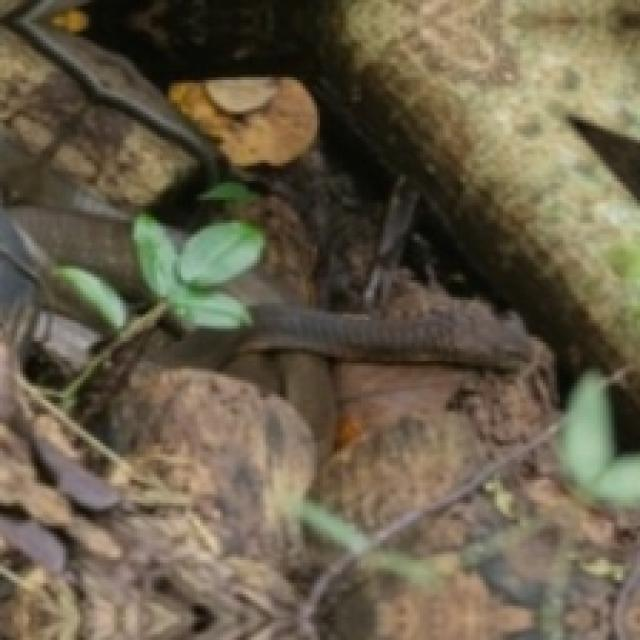king cobra: (151, 271, 530, 459), (0, 180, 149, 356)
